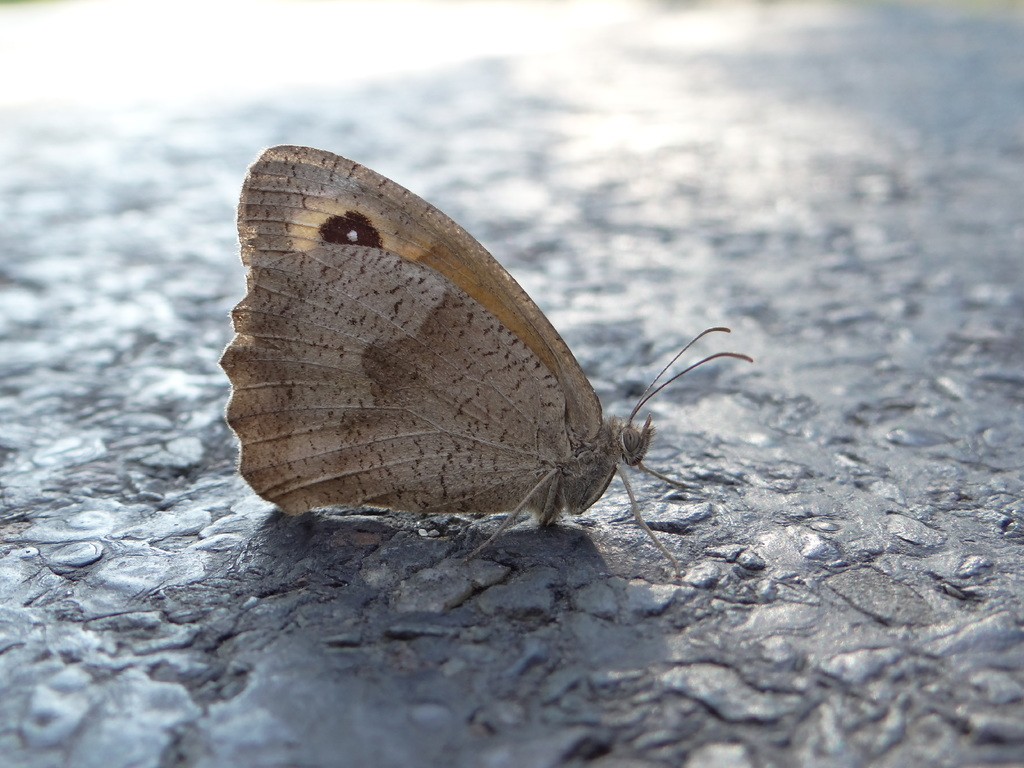Butterfly: (190, 130, 773, 586)
